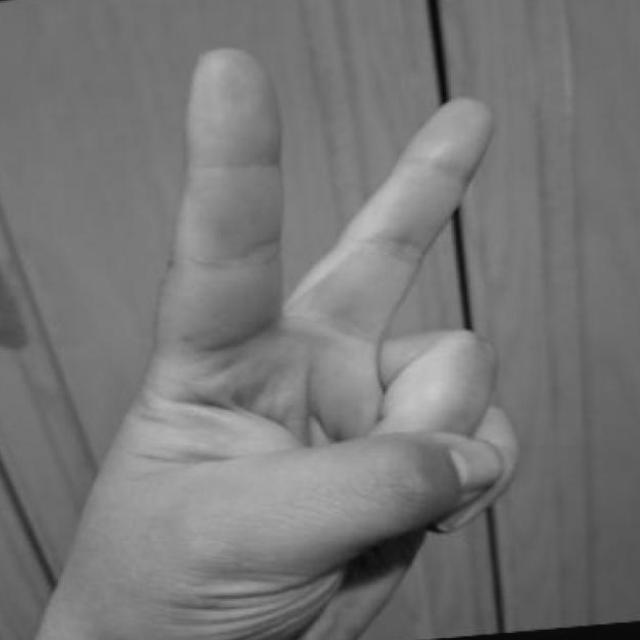V: (80, 29, 533, 640)
